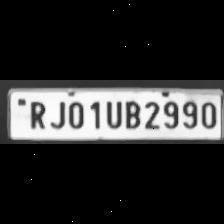0: (64, 98, 86, 130), (198, 99, 218, 129)
1: (85, 98, 103, 130)
2: (142, 97, 160, 130)
9: (161, 98, 179, 130), (180, 98, 198, 130)
B: (122, 98, 140, 130)
J: (47, 98, 65, 130)
R: (24, 97, 48, 130)
U: (103, 98, 121, 130)
